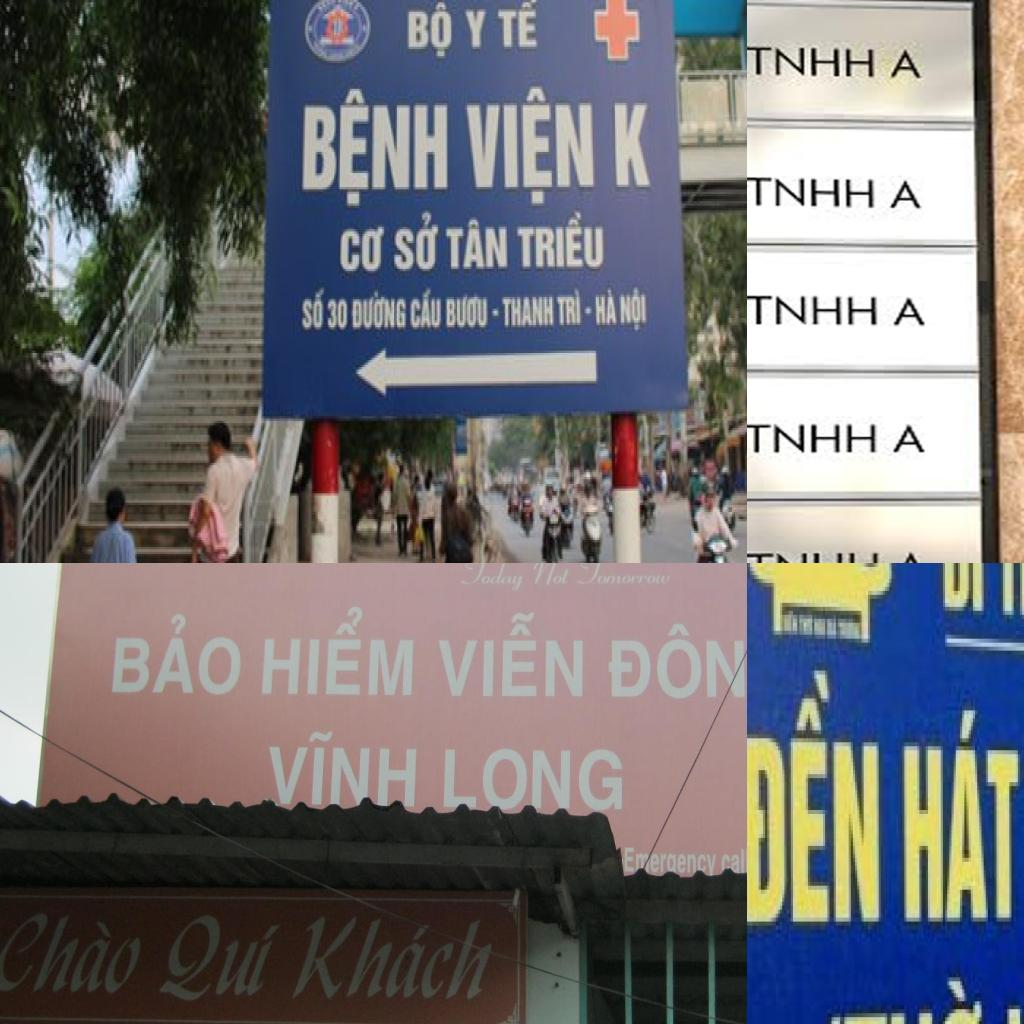text: (747, 662, 882, 933), (900, 694, 1022, 934), (282, 916, 508, 1011), (299, 82, 453, 208), (458, 86, 600, 210), (253, 602, 423, 702), (432, 606, 589, 705), (104, 604, 250, 707), (259, 727, 422, 815), (152, 908, 290, 1008), (438, 744, 629, 816), (0, 912, 149, 1001), (604, 621, 747, 707), (816, 969, 992, 1024), (512, 210, 608, 276), (747, 416, 881, 455), (747, 172, 879, 211), (610, 96, 658, 201), (747, 290, 881, 327), (747, 44, 876, 78), (444, 213, 510, 276), (622, 842, 720, 882), (397, 0, 457, 63), (388, 208, 442, 276), (573, 563, 679, 592), (348, 281, 408, 332), (936, 563, 990, 618), (747, 542, 884, 563), (339, 220, 388, 278), (454, 563, 528, 600), (494, 0, 543, 51), (502, 288, 556, 334), (886, 418, 935, 458), (444, 292, 492, 332), (409, 283, 444, 337), (886, 292, 935, 328), (616, 285, 653, 330), (886, 46, 928, 83), (886, 174, 928, 211), (299, 283, 328, 332), (528, 563, 574, 591), (463, 5, 488, 56), (556, 283, 583, 325), (590, 288, 618, 327), (325, 295, 349, 334), (719, 845, 747, 875), (891, 544, 935, 563)
